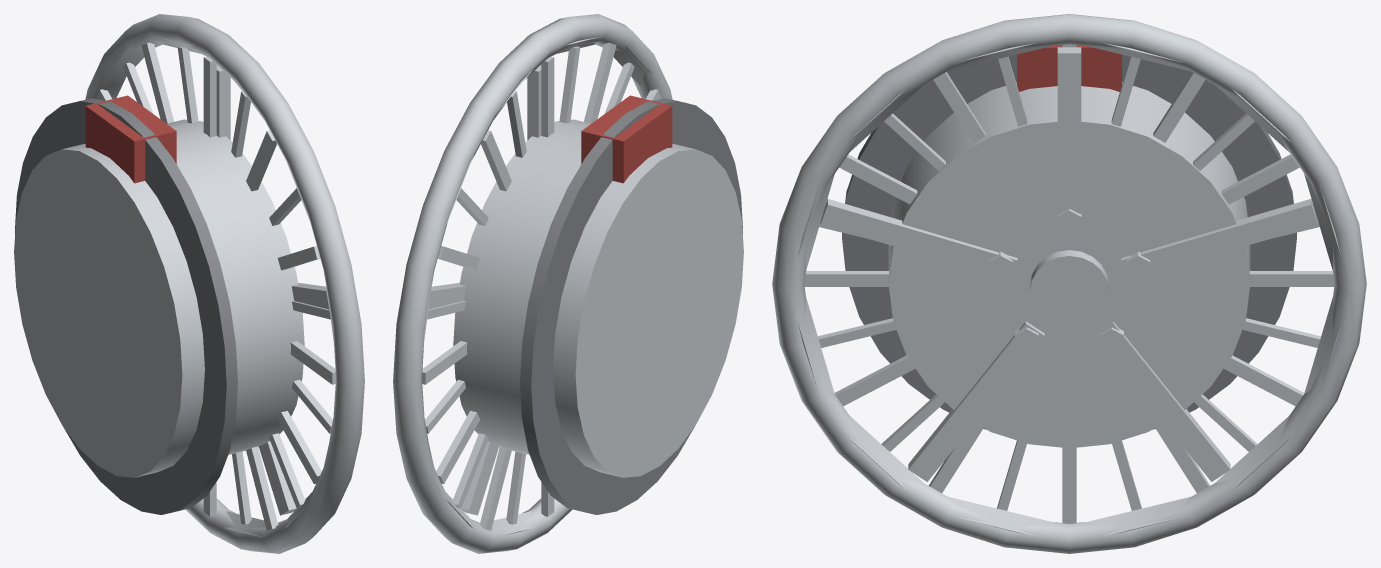
3 renders of one model, left to right at view 1: azimuth 30°, elevation 25°; view 2: azimuth 150°, elevation 25°; view 3: azimuth 270°, elevation 25°, orthographic. The views are drawn at different scales.
Visible parts, largest first — view 1: Chrome.001, Chrome.002, Rotor, Caliper, ChromeLOD, ChromeLOD.004, Chrome.015, Chrome.027, Chrome.005, Chrome.013, ChromeLOD.002, Chrome.014 (+10 smaller); view 2: Chrome.001, Chrome.002, Rotor, Caliper, ChromeLOD, ChromeLOD.005, Chrome.019, Chrome.007, Chrome.005, Chrome.021, ChromeLOD.002, Chrome.006 (+10 smaller); view 3: Chrome.001, Chrome.002, Rotor, ChromeLOD, Chrome.004, ChromeLOD.003, ChromeLOD.006, ChromeLOD.004, ChromeLOD.005, ChromeLOD.002, Caliper, Chrome.013 (+20 smaller).
Boxes of the visible parts, left/top/right/bottom form: Chrome.001: left=14, top=119, right=304, bottom=477; Chrome.002: left=85, top=14, right=364, bottom=553; Rotor: left=15, top=98, right=237, bottom=514; Caliper: left=85, top=95, right=176, bottom=183; ChromeLOD: left=105, top=36, right=334, bottom=536; ChromeLOD.004: left=258, top=441, right=296, bottom=515; Chrome.015: left=246, top=446, right=278, bottom=530; Chrome.027: left=141, top=42, right=173, bottom=123; Chrome.005: left=203, top=56, right=216, bottom=137; Chrome.013: left=277, top=411, right=321, bottom=483; ChromeLOD.002: left=216, top=65, right=230, bottom=140; Chrome.014: left=269, top=433, right=305, bottom=508; Chrome.001: left=453, top=119, right=743, bottom=477; Chrome.002: left=393, top=14, right=672, bottom=553; Rotor: left=520, top=98, right=742, bottom=514; Caliper: left=581, top=95, right=672, bottom=183; ChromeLOD: left=423, top=36, right=652, bottom=536; ChromeLOD.005: left=461, top=441, right=499, bottom=515; Chrome.019: left=479, top=446, right=511, bottom=530; Chrome.007: left=584, top=42, right=616, bottom=123; Chrome.005: left=541, top=56, right=554, bottom=137; Chrome.021: left=436, top=411, right=480, bottom=483; ChromeLOD.002: left=527, top=65, right=541, bottom=140; Chrome.006: left=559, top=46, right=580, bottom=123; Chrome.001: left=888, top=82, right=1250, bottom=448; Chrome.002: left=772, top=14, right=1366, bottom=553; Rotor: left=842, top=54, right=1296, bottom=429; ChromeLOD: left=797, top=43, right=1341, bottom=536; Chrome.004: left=1029, top=250, right=1109, bottom=327; ChromeLOD.003: left=820, top=199, right=1017, bottom=280; ChromeLOD.006: left=1121, top=199, right=1318, bottom=280; ChromeLOD.004: left=908, top=321, right=1044, bottom=481; ChromeLOD.005: left=1094, top=321, right=1230, bottom=481; ChromeLOD.002: left=1057, top=47, right=1081, bottom=233; Caliper: left=1017, top=45, right=1121, bottom=91; Chrome.013: left=834, top=355, right=915, bottom=406.
Bounding box in the file's own units: 0.145 × 0.5096 × 0.5096.
